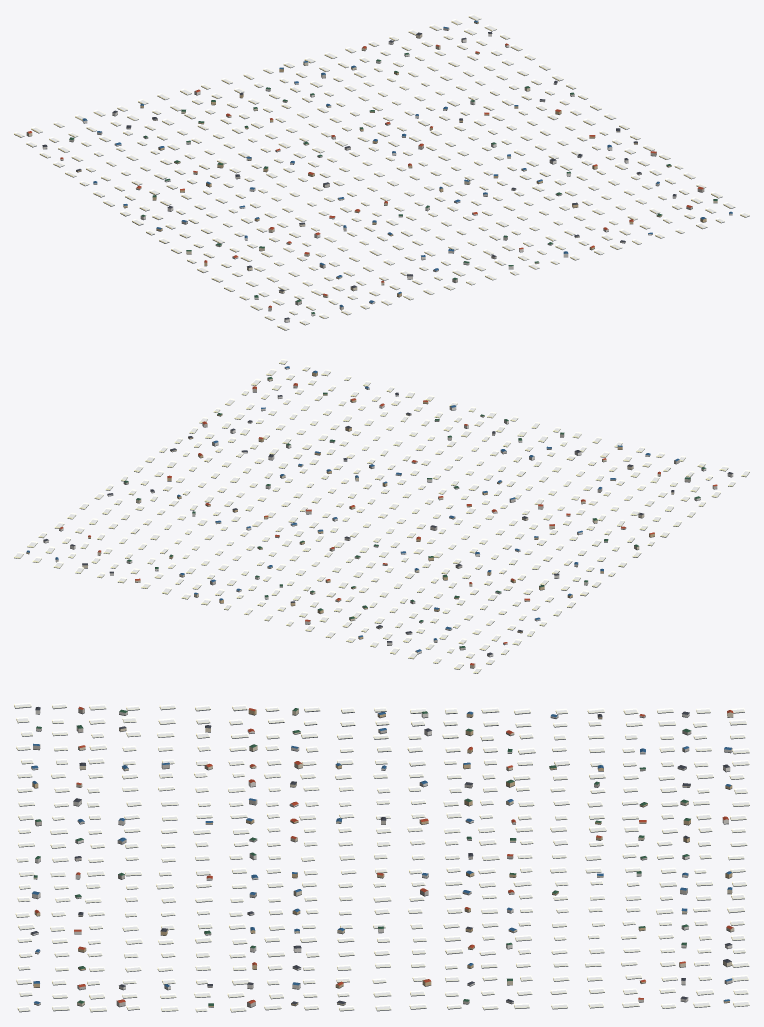
File: buildings_T_E01_N02.glb
3 renders of one model, top to bottom at view 1: azimuth 30°, elevation 25°; view 2: azimuth 150°, elevation 25°; view 3: azimuth 270°, elevation 25°, orthographic. The views are drawn at different scales.
Parts seen in each view (by area): view 1: T_E01_N02_roofs_agri_greenhouse_arch, T_E01_N02_slope_seating_foundations, T_E01_N02_walls_wall_modern_warm_white, T_E01_N02_walls_wall_french_ochre_villa, T_E01_N02_roofs_roof_highland_blue_gable, T_E01_N02_walls_wall_dalat_cream_stucco, T_E01_N02_walls_wall_pastel_sand_gray, T_E01_N02_roofs_roof_pine_green_hip; view 2: T_E01_N02_roofs_agri_greenhouse_arch, T_E01_N02_slope_seating_foundations, T_E01_N02_walls_wall_modern_warm_white, T_E01_N02_walls_wall_french_ochre_villa, T_E01_N02_roofs_roof_highland_blue_gable, T_E01_N02_walls_wall_pastel_sand_gray, T_E01_N02_walls_wall_dalat_cream_stucco, T_E01_N02_roofs_roof_pine_green_hip; view 3: T_E01_N02_roofs_agri_greenhouse_arch, T_E01_N02_slope_seating_foundations, T_E01_N02_walls_wall_modern_warm_white, T_E01_N02_walls_wall_french_ochre_villa, T_E01_N02_roofs_roof_highland_blue_gable, T_E01_N02_walls_wall_pastel_sand_gray, T_E01_N02_walls_wall_dalat_cream_stucco, T_E01_N02_roofs_roof_pine_green_hip, T_E01_N02_roofs_roof_terracotta_gable, T_E01_N02_roofs_roof_slate_French_villa_hip.
Part boxes in pixels (x1=…): T_E01_N02_roofs_agri_greenhouse_arch: x1=14, y1=14, x2=749, y2=330; T_E01_N02_slope_seating_foundations: x1=14, y1=16, x2=749, y2=330; T_E01_N02_walls_wall_modern_warm_white: x1=42, y1=34, x2=732, y2=322; T_E01_N02_walls_wall_french_ochre_villa: x1=76, y1=22, x2=706, y2=296; T_E01_N02_roofs_roof_highland_blue_gable: x1=82, y1=20, x2=732, y2=307; T_E01_N02_walls_wall_dalat_cream_stucco: x1=26, y1=34, x2=717, y2=297; T_E01_N02_walls_wall_pastel_sand_gray: x1=69, y1=28, x2=704, y2=310; T_E01_N02_roofs_roof_pine_green_hip: x1=69, y1=53, x2=717, y2=313; T_E01_N02_roofs_agri_greenhouse_arch: x1=14, y1=359, x2=749, y2=673; T_E01_N02_slope_seating_foundations: x1=14, y1=361, x2=749, y2=673; T_E01_N02_walls_wall_modern_warm_white: x1=43, y1=367, x2=733, y2=656; T_E01_N02_walls_wall_french_ochre_villa: x1=26, y1=372, x2=654, y2=638; T_E01_N02_roofs_roof_highland_blue_gable: x1=26, y1=366, x2=679, y2=651; T_E01_N02_walls_wall_pastel_sand_gray: x1=55, y1=385, x2=717, y2=649; T_E01_N02_walls_wall_dalat_cream_stucco: x1=82, y1=378, x2=674, y2=668; T_E01_N02_roofs_roof_pine_green_hip: x1=124, y1=377, x2=705, y2=648; T_E01_N02_roofs_agri_greenhouse_arch: x1=14, y1=702, x2=749, y2=1011; T_E01_N02_slope_seating_foundations: x1=14, y1=704, x2=749, y2=1012; T_E01_N02_walls_wall_modern_warm_white: x1=30, y1=710, x2=732, y2=1005; T_E01_N02_walls_wall_french_ochre_villa: x1=32, y1=709, x2=732, y2=1007; T_E01_N02_roofs_roof_highland_blue_gable: x1=31, y1=711, x2=732, y2=1003; T_E01_N02_walls_wall_pastel_sand_gray: x1=33, y1=708, x2=732, y2=1007; T_E01_N02_walls_wall_dalat_cream_stucco: x1=33, y1=709, x2=734, y2=1005; T_E01_N02_roofs_roof_pine_green_hip: x1=33, y1=708, x2=691, y2=1005; T_E01_N02_roofs_roof_terracotta_gable: x1=35, y1=706, x2=733, y2=1003; T_E01_N02_roofs_roof_slate_French_villa_hip: x1=31, y1=707, x2=732, y2=1004.
Size of the model in its own units: 1750 by 33.33 by 1772.
